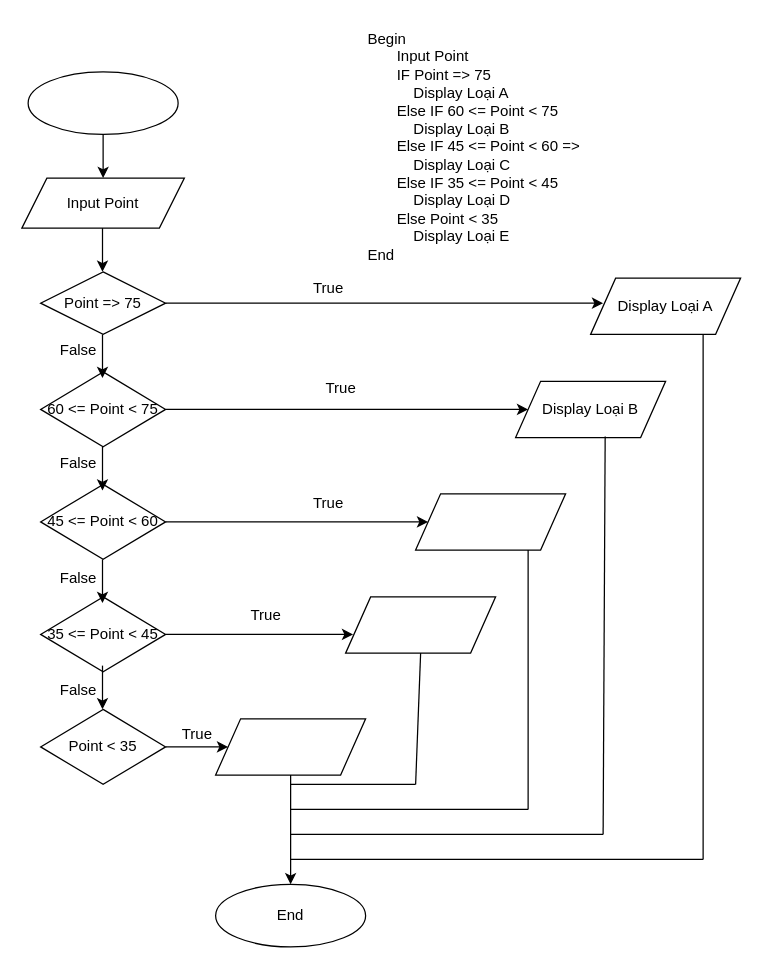
The diagram is 763 pixels wide and 979 high, and some of its shapes have lost their labels. The shapes that lost their labels are listed below. From the top down, each one's centre as x and y in pixels, then its label:
At (102,102): "Begin".
At (490,521): "Display Loại C".
At (420,624): "Display Loại D".
At (290,746): "Display Loại E".
